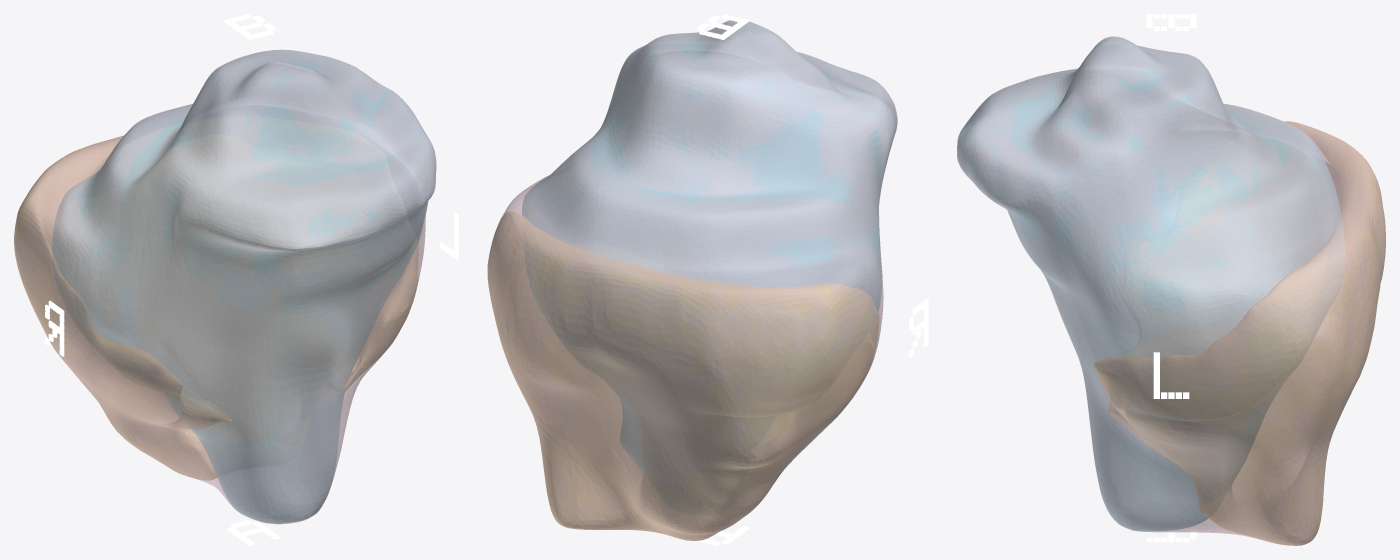
3 renders of one model, left to right at view 1: azimuth 30°, elevation 25°; view 2: azimuth 150°, elevation 25°; view 3: azimuth 270°, elevation 25°, orthographic.
Parts seen in each view (by area): view 1: prostate_gland, transition_zone, peripheral_zone, pv_ar_marker_B, pv_ar_marker_R, pv_ar_marker_A; view 2: prostate_gland, peripheral_zone, transition_zone, pv_ar_marker_B, pv_ar_marker_R; view 3: prostate_gland, transition_zone, peripheral_zone, pv_ar_marker_B, pv_ar_marker_L.
Boxes of the visible parts, box(x1,y1,x2,y2) form: prostate_gland: box(14, 49, 436, 524); transition_zone: box(52, 50, 436, 523); peripheral_zone: box(14, 136, 418, 480); pv_ar_marker_B: box(224, 14, 276, 39); pv_ar_marker_R: box(45, 300, 64, 356); pv_ar_marker_A: box(227, 520, 279, 545); prostate_gland: box(488, 20, 897, 540); peripheral_zone: box(487, 211, 878, 540); transition_zone: box(522, 21, 896, 473); pv_ar_marker_B: box(696, 14, 748, 39); pv_ar_marker_R: box(909, 299, 928, 357); prostate_gland: box(957, 36, 1385, 545); transition_zone: box(957, 37, 1345, 530); peripheral_zone: box(1094, 121, 1385, 545); pv_ar_marker_B: box(1146, 14, 1196, 30); pv_ar_marker_L: box(1153, 352, 1189, 398).
Bounding box in the file's own units: 0.0536 × 0.0656 × 0.0497.
